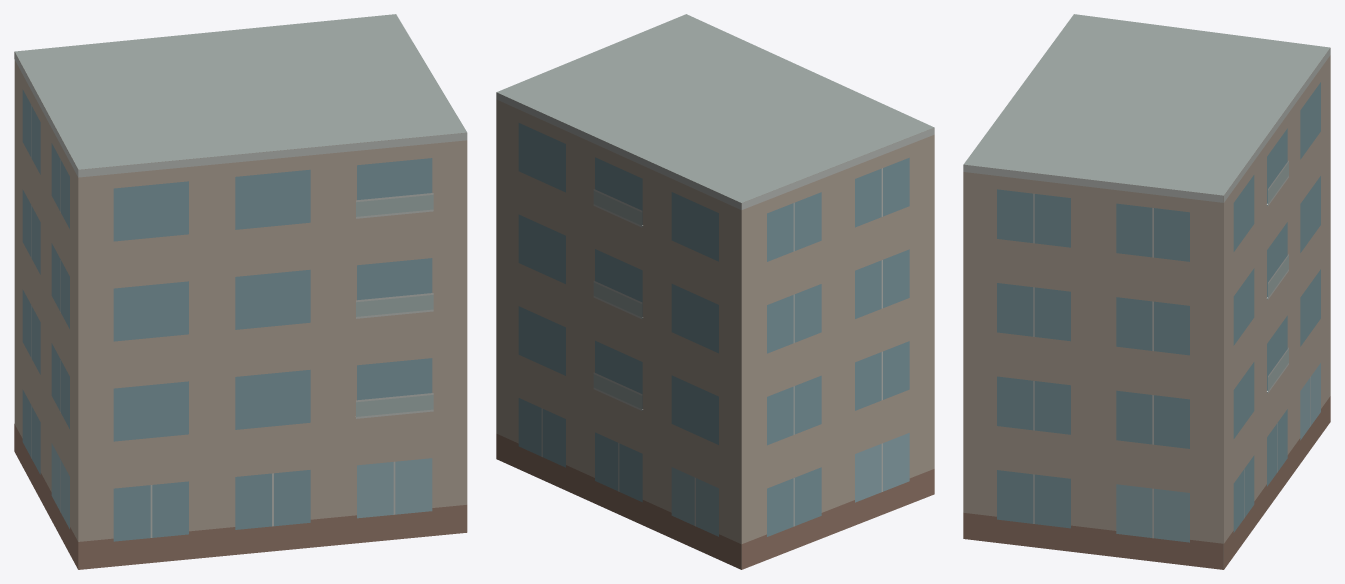
The model's file is survey-upis-33016797.glb.
3 renders of one model, left to right at view 1: azimuth 30°, elevation 25°; view 2: azimuth 150°, elevation 25°; view 3: azimuth 270°, elevation 25°, orthographic. The views are drawn at different scales.
Parts seen in each view (by area): view 1: survey-upis-33016797.tmp; view 2: survey-upis-33016797.tmp; view 3: survey-upis-33016797.tmp.
Part boxes in pixels (x1,y1,x2,y2): survey-upis-33016797.tmp: [14, 14, 467, 569]; survey-upis-33016797.tmp: [496, 14, 934, 569]; survey-upis-33016797.tmp: [963, 14, 1330, 569].
Size of the model in its own units: 13.02 by 12.5 by 11.12.
